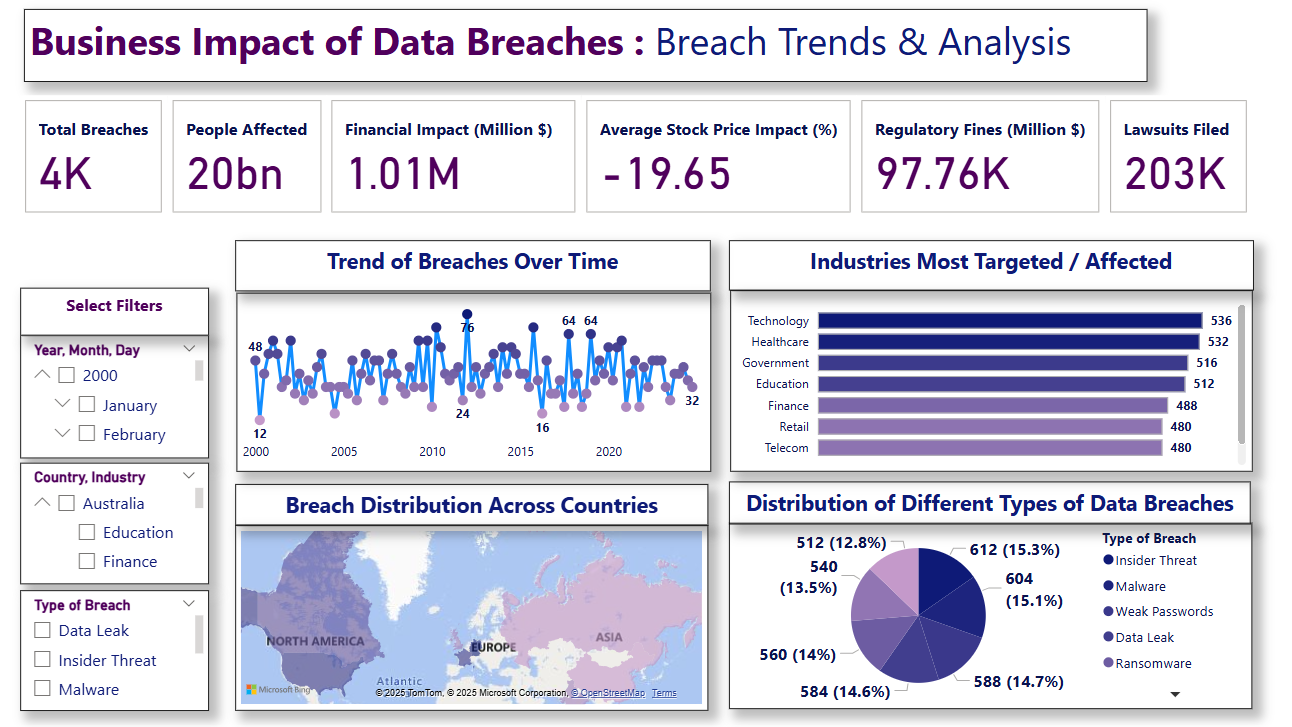

Layout of this report page (visuals, bound fields, positions):
{"tool":"powerbi","page":{"name":"Breach Trend and Analysis","canvas":[1280,720],"ordinal":0},"visuals":[{"type":"textbox","box":[25,10.3,1109.4,72],"z":0},{"type":"lineChart","fields":{"Category":["Sheet1.Date of Breach.Variation.Date Hierarchy.Year","Sheet1.Date of Breach.Variation.Date Hierarchy.Quarter","Sheet1.Date of Breach.Variation.Date Hierarchy.Month","Sheet1.Date of Breach.Variation.Date Hierarchy.Day"],"Y":["Sheet1.Total Breaches"]},"box":[233.6,290.1,469.1,176.9],"z":0,"group":"g4"},{"type":"group","id":"g1","title":"Group 8","box":[20.5,332.9,186.7,370.7],"z":0,"group":"g6"},{"type":"textbox","box":[232.8,238.6,469.3,50.6],"z":1000,"group":"g4"},{"type":"group","id":"g2","title":"Group 1","box":[720.5,238.6,518.1,228.9],"z":1000},{"type":"textbox","box":[20.5,285.5,186.3,47.4],"z":1000,"group":"g6"},{"type":"filledMap","fields":{"Category":["Sheet1.Country"]},"box":[234.2,518.8,467.4,183.3],"z":1000,"group":"g5"},{"type":"group","id":"g3","title":"Group 2","box":[720.5,477.1,516.9,225.3],"z":2000},{"type":"textbox","box":[233.9,478.4,467.3,41.1],"z":2000,"group":"g5"},{"type":"group","id":"g4","title":"Group 3","box":[232.8,238.6,469.9,228.4],"z":3000},{"type":"clusteredBarChart","fields":{"Category":["Sheet1.Industry"],"Y":["Sheet1.Total Breaches"]},"box":[721.4,288.5,515.7,179],"z":3000,"group":"g8"},{"type":"slicer","fields":{"Values":["Sheet1.Date of Breach.Variation.Date Hierarchy.Year","Sheet1.Date of Breach.Variation.Date Hierarchy.Month","Sheet1.Date of Breach.Variation.Date Hierarchy.Day"]},"box":[20.5,332.9,186.7,121.7],"z":3000,"group":"g1"},{"type":"textbox","box":[720.5,238.6,518.1,49.9],"z":4000,"group":"g8"},{"type":"slicer","fields":{"Values":["Sheet1.Country","Sheet1.Industry"]},"box":[20.5,458.5,186.4,120.3],"z":4000,"group":"g1"},{"type":"group","id":"g5","title":"Group 6","box":[233.9,478.4,467.7,223.7],"z":4000},{"type":"group","id":"g6","title":"Group 9","box":[20.5,285.5,186.7,418.1],"z":5000},{"type":"slicer","fields":{"Values":["Sheet1.Type of Breach"]},"box":[20.7,584.2,186.3,119.3],"z":5000,"group":"g1"},{"type":"cardVisual","fields":{"Data":["Avg(Sheet1.Stock Price Impact (%))"]},"box":[574.6,95.5,271.8,122],"z":6000,"group":"g9"},{"type":"cardVisual","fields":{"Data":["Sheet1.Total Breaches"]},"box":[20.6,95.5,145.5,122],"z":7000,"group":"g9"},{"type":"pieChart","fields":{"Category":["Sheet1.Type of Breach"],"Y":["Sheet1.Total Breaches"]},"box":[720.5,518.4,516.9,184],"z":7000,"group":"g7"},{"type":"cardVisual","fields":{"Data":["Sum(Sheet1.Regulatory Fines (Million $))"]},"box":[846.4,95.5,245.4,122],"z":8000,"group":"g9"},{"type":"textbox","box":[720.6,477.1,515.5,42.7],"z":8000,"group":"g7"},{"type":"group","id":"g7","title":"Group 5","box":[720.5,477.1,516.9,225.3],"z":8001,"group":"g3"},{"type":"cardVisual","fields":{"Data":["Sum(Sheet1.Lawsuits Filed)"]},"box":[1091.8,95.5,145.5,122],"z":9000,"group":"g9"},{"type":"group","id":"g8","title":"Group 4","box":[720.5,238.6,518.1,228.9],"z":9002,"group":"g2"},{"type":"cardVisual","fields":{"Data":["Sum(Sheet1.People Affected)"]},"box":[166.1,95.5,157.2,122],"z":10000,"group":"g9"},{"type":"cardVisual","fields":{"Data":["Sum(Sheet1.Financial Impact (Million $))"]},"box":[323.3,95.5,251.3,122],"z":11000,"group":"g9"},{"type":"group","id":"g9","title":"Group 7","box":[20.6,95.5,1216.7,122],"z":11001}]}

Visuals, with their boxes in screenshot pixels (x1, y1, x2, y2), scaled from the page's 1280x720 canvas onto the 1292x727 screenshot:
textbox: (25,10,1145,83)
lineChart - Sheet1.Date of Breach.Variation.Date Hierarchy.Year x Sheet1.Date of Breach.Variation.Date Hierarchy.Quarter: (236,293,709,472)
"Group 8" group: (21,336,209,710)
textbox: (235,241,709,292)
"Group 1" group: (727,241,1250,472)
textbox: (21,288,209,336)
filledMap - Sheet1.Country: (236,524,708,709)
"Group 2" group: (727,482,1249,709)
textbox: (236,483,708,525)
"Group 3" group: (235,241,709,472)
clusteredBarChart - Sheet1.Industry x Sheet1.Total Breaches: (728,291,1249,472)
slicer - Sheet1.Date of Breach.Variation.Date Hierarchy.Year x Sheet1.Date of Breach.Variation.Date Hierarchy.Month: (21,336,209,459)
textbox: (727,241,1250,291)
slicer - Sheet1.Country x Sheet1.Industry: (21,463,209,584)
"Group 6" group: (236,483,708,709)
"Group 9" group: (21,288,209,710)
slicer - Sheet1.Type of Breach: (21,590,209,710)
cardVisual - Avg(Sheet1.Stock Price Impact (%)): (580,96,854,220)
cardVisual - Sheet1.Total Breaches: (21,96,168,220)
pieChart - Sheet1.Type of Breach x Sheet1.Total Breaches: (727,523,1249,709)
cardVisual - Sum(Sheet1.Regulatory Fines (Million $)): (854,96,1102,220)
textbox: (727,482,1248,525)
"Group 5" group: (727,482,1249,709)
cardVisual - Sum(Sheet1.Lawsuits Filed): (1102,96,1249,220)
"Group 4" group: (727,241,1250,472)
cardVisual - Sum(Sheet1.People Affected): (168,96,326,220)
cardVisual - Sum(Sheet1.Financial Impact (Million $)): (326,96,580,220)
"Group 7" group: (21,96,1249,220)
